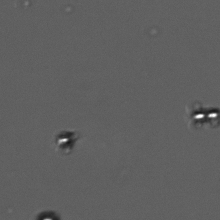Living Cell: (56, 133, 73, 147), (206, 108, 220, 123), (193, 107, 205, 124)
